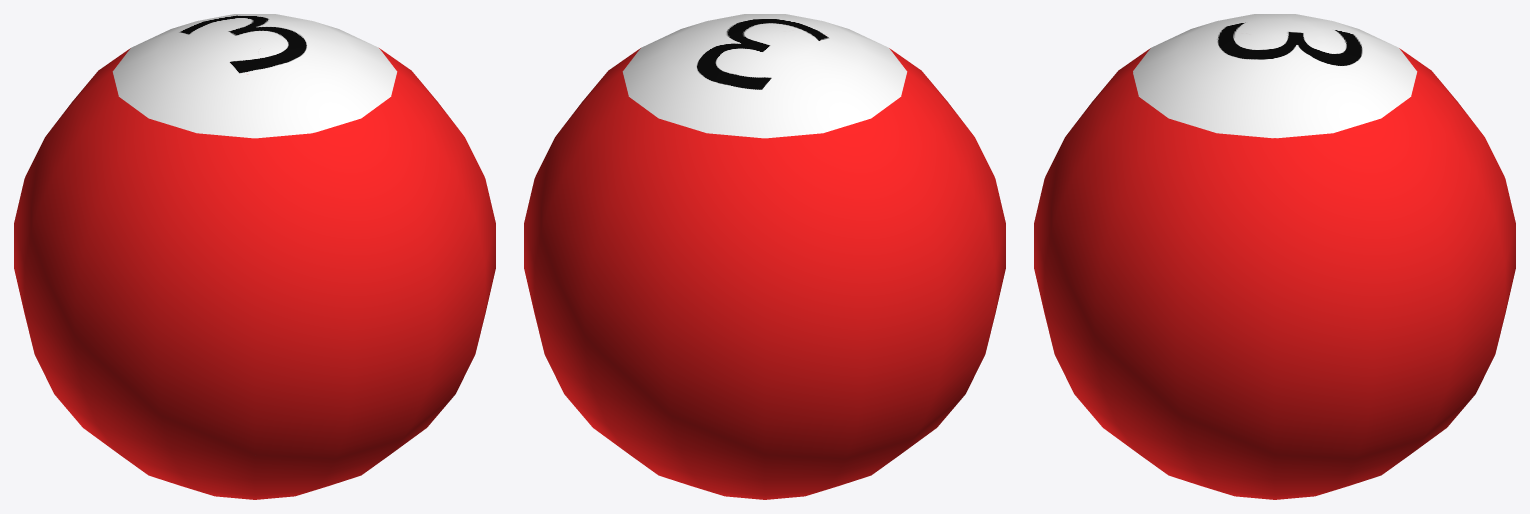
Rendered from 3Ball.obj.
3 renders of one model, left to right at view 1: azimuth 30°, elevation 25°; view 2: azimuth 150°, elevation 25°; view 3: azimuth 270°, elevation 25°, orthographic.
Visible parts, largest first — view 1: pSphere5; view 2: pSphere5; view 3: pSphere5.
Boxes of the visible parts, left/top/right/bottom form: pSphere5: left=14, top=14, right=495, bottom=499; pSphere5: left=524, top=14, right=1005, bottom=499; pSphere5: left=1034, top=14, right=1515, bottom=499.
Bounding box in the file's own units: 1.97 × 2 × 1.98.
1 material, 1 textured.
